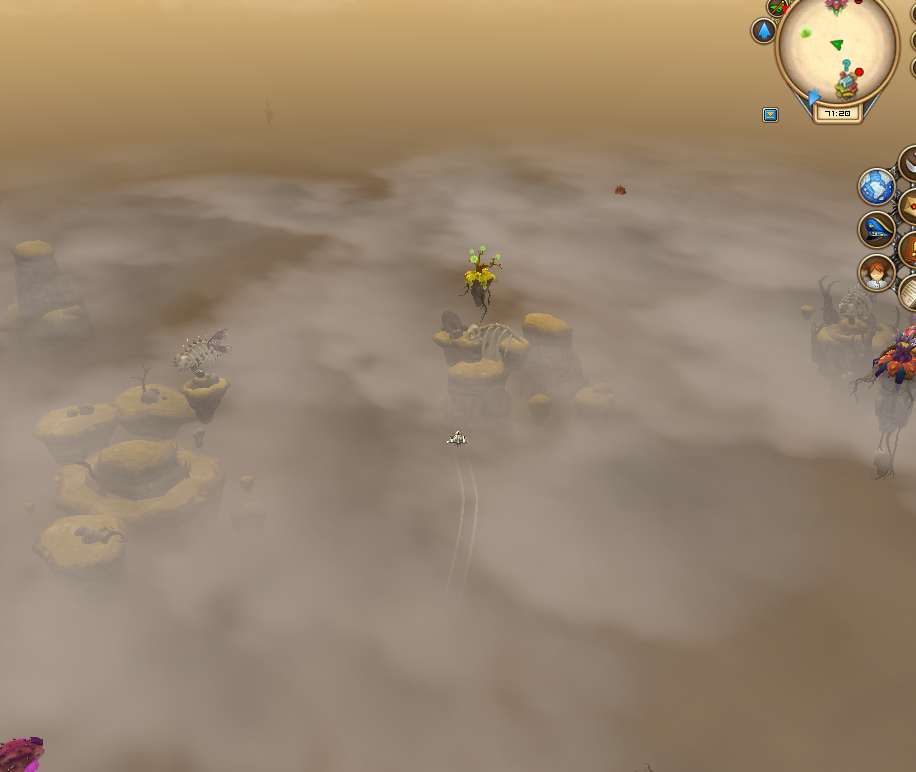dandelion-full: (459, 239, 505, 315)
